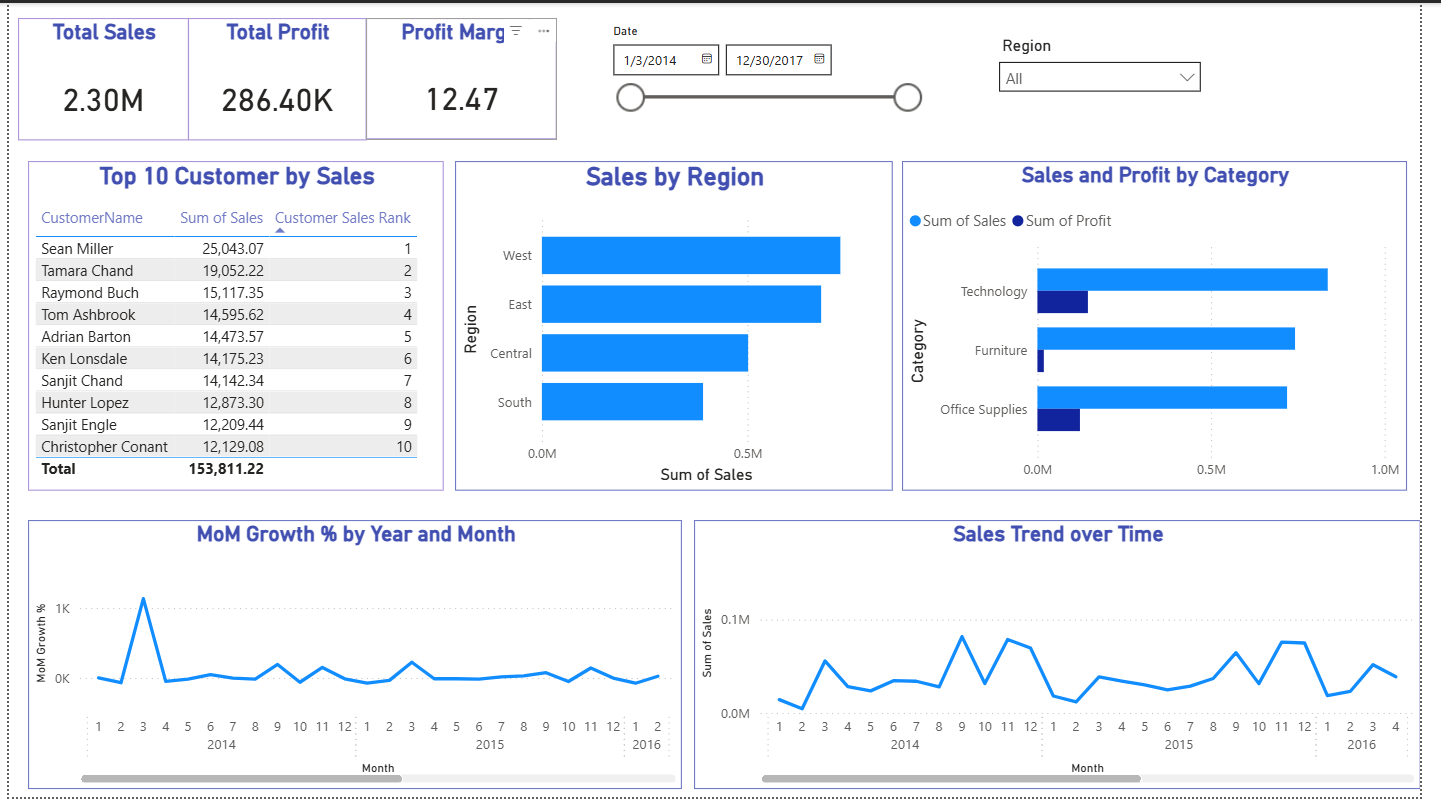

The dashboard page shown, as its layout file describes it:
{"tool":"powerbi","page":{"name":"Page 1","canvas":[1280,720],"ordinal":0},"visuals":[{"type":"card","title":"Total Sales","fields":{"Values":["vw_OrderDetails.Total Sales"]},"box":[8,14,154.6,110.7],"z":0},{"type":"card","title":"Total Profit","fields":{"Values":["vw_OrderDetails.Total Profit"]},"box":[162.6,14,161.6,110.7],"z":1000},{"type":"card","title":"Profit Margin","fields":{"Values":["vw_OrderDetails.Profit Margin"]},"box":[324.1,13.9,173.1,110.3],"z":2000},{"type":"lineChart","fields":{"Category":["DateTable.Year","DateTable.Month"],"Y":["vw_OrderDetails.MoM Growth %"]},"box":[16.9,468.6,593.5,244.4],"z":3000},{"type":"slicer","fields":{"Values":["DateTable.Date"]},"box":[535.3,13.8,300.8,97.6],"z":4000},{"type":"slicer","fields":{"Values":["vw_OrderDetails.Region"]},"box":[887.5,25.4,203.3,73.2],"z":5000},{"type":"clusteredBarChart","title":"Sales by Region","fields":{"Category":["vw_OrderDetails.Region"],"Y":["Sum(vw_OrderDetails.Sales)"]},"box":[404.2,142.9,397.2,298.5],"z":6000},{"type":"clusteredBarChart","title":"Sales and Profit by Category","fields":{"Category":["vw_OrderDetails.Category"],"Y":["Sum(vw_OrderDetails.Sales)","Sum(vw_OrderDetails.Profit)"]},"box":[809.6,142.9,457.6,298.5],"z":7000},{"type":"tableEx","title":"Top 10 Customer by Sales","fields":{"Values":["vw_OrderDetails.CustomerName","Sum(vw_OrderDetails.Sales)","vw_OrderDetails.Customer Sales Rank"]},"box":[17.4,142.9,377.5,298.5],"z":8000},{"type":"lineChart","title":"Sales Trend over Time","fields":{"Category":["DateTable.Year","DateTable.Month"],"Y":["Sum(vw_OrderDetails.Sales)"]},"box":[621,468.6,659,244.4],"z":9000}]}

Visuals, with their boxes in screenshot pixels (x1, y1, x2, y2), scaled from the page's 1280x720 canvas onto the 1441x803 screenshot:
"Total Sales" card: (x1=9, y1=16, x2=183, y2=139)
"Total Profit" card: (x1=183, y1=16, x2=365, y2=139)
"Profit Margin" card: (x1=365, y1=16, x2=560, y2=139)
lineChart - DateTable.Year x DateTable.Month: (x1=19, y1=523, x2=687, y2=795)
slicer - DateTable.Date: (x1=603, y1=15, x2=941, y2=124)
slicer - vw_OrderDetails.Region: (x1=999, y1=28, x2=1228, y2=110)
"Sales by Region" clusteredBarChart: (x1=455, y1=159, x2=902, y2=492)
"Sales and Profit by Category" clusteredBarChart: (x1=911, y1=159, x2=1427, y2=492)
"Top 10 Customer by Sales" tableEx: (x1=20, y1=159, x2=445, y2=492)
"Sales Trend over Time" lineChart: (x1=699, y1=523, x2=1440, y2=795)
